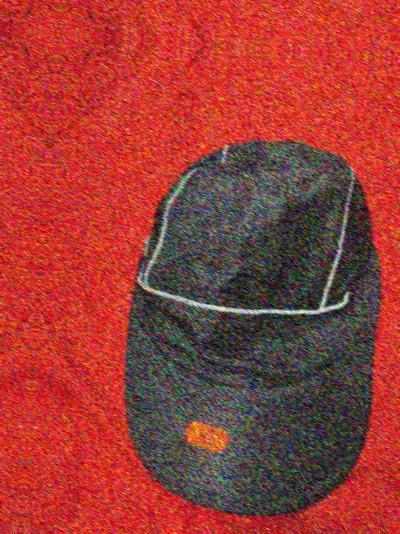Hat: (96, 99, 398, 517)
